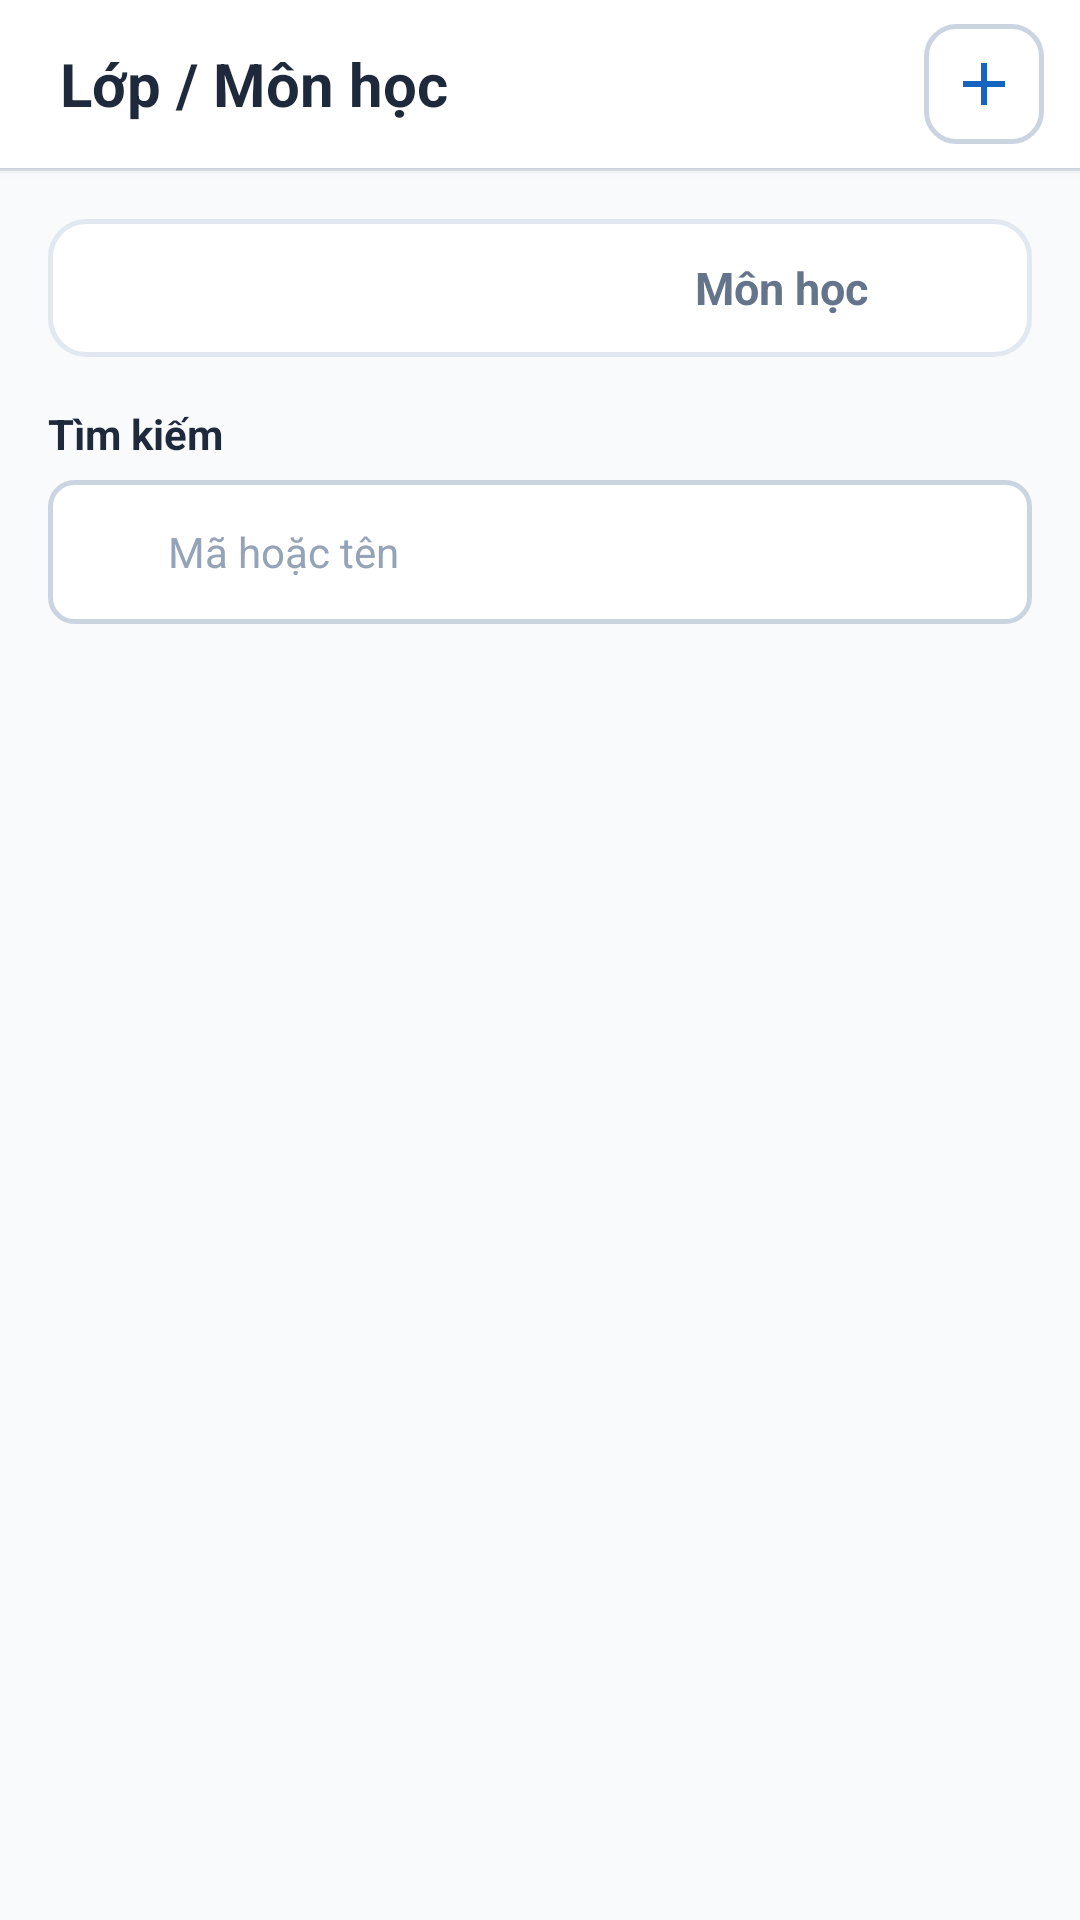

Icon click points for this 1080px×1920px phone screenshot, format [x,y]:
add: [984,84]
